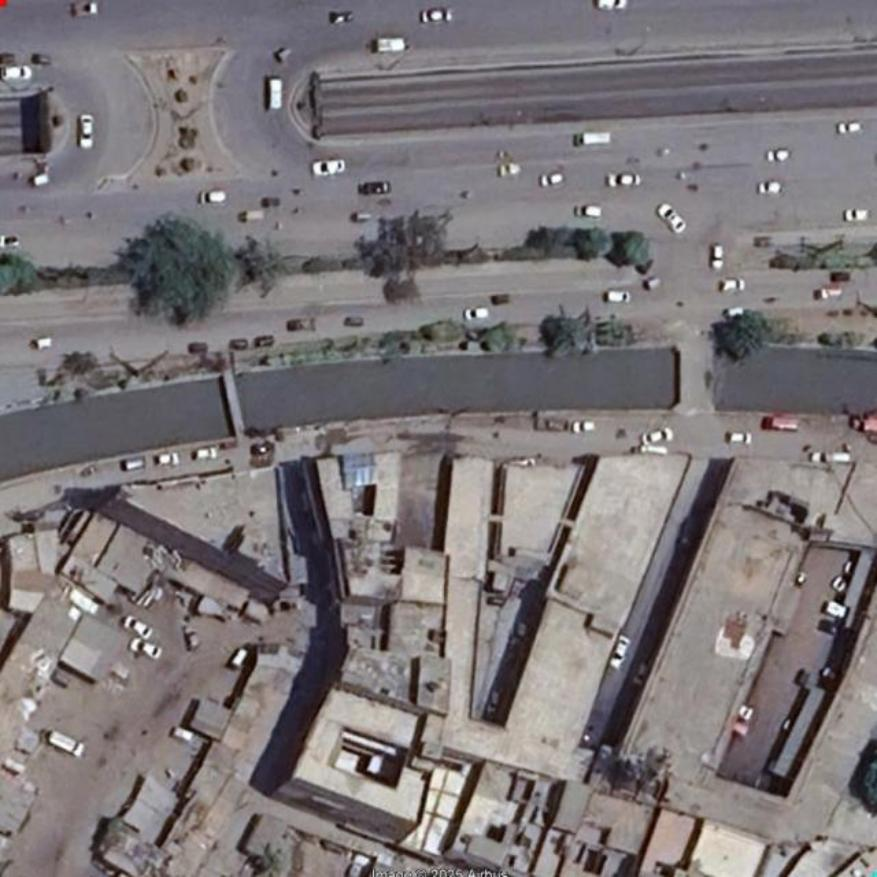Solarpanel: (344, 455, 371, 487)
